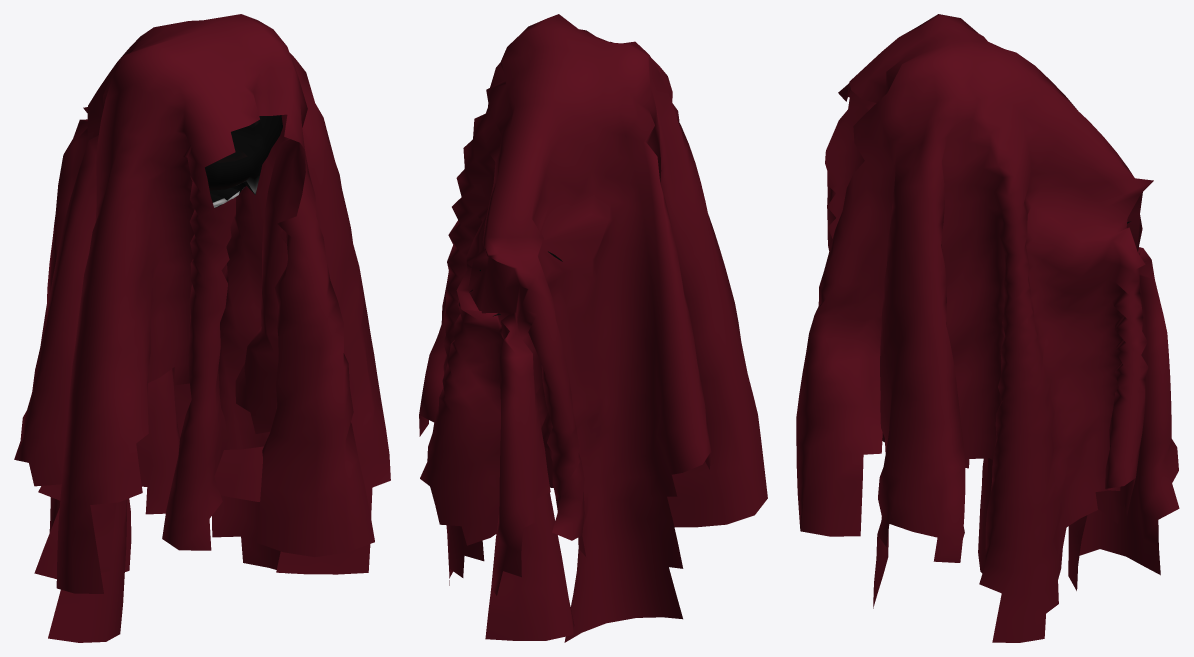
File: BlindLights RedGhost.fbx
3 views of the same model, side by side, from view 1: azimuth 30°, elevation 25°; view 2: azimuth 150°, elevation 25°; view 3: azimuth 270°, elevation 25° (orthographic). The views are drawn at different scales.
Visible parts, largest first — view 1: Circle, Sphere.002; view 2: Circle; view 3: Circle.
Boxes of the visible parts, box(x1,y1,x2,y2) form: Circle: box(14, 14, 390, 642); Sphere.002: box(205, 115, 282, 207); Circle: box(419, 14, 767, 642); Circle: box(796, 14, 1179, 642).
Size of the model in its own units: 417 by 718 by 431.
2 materials, 1 textured.
